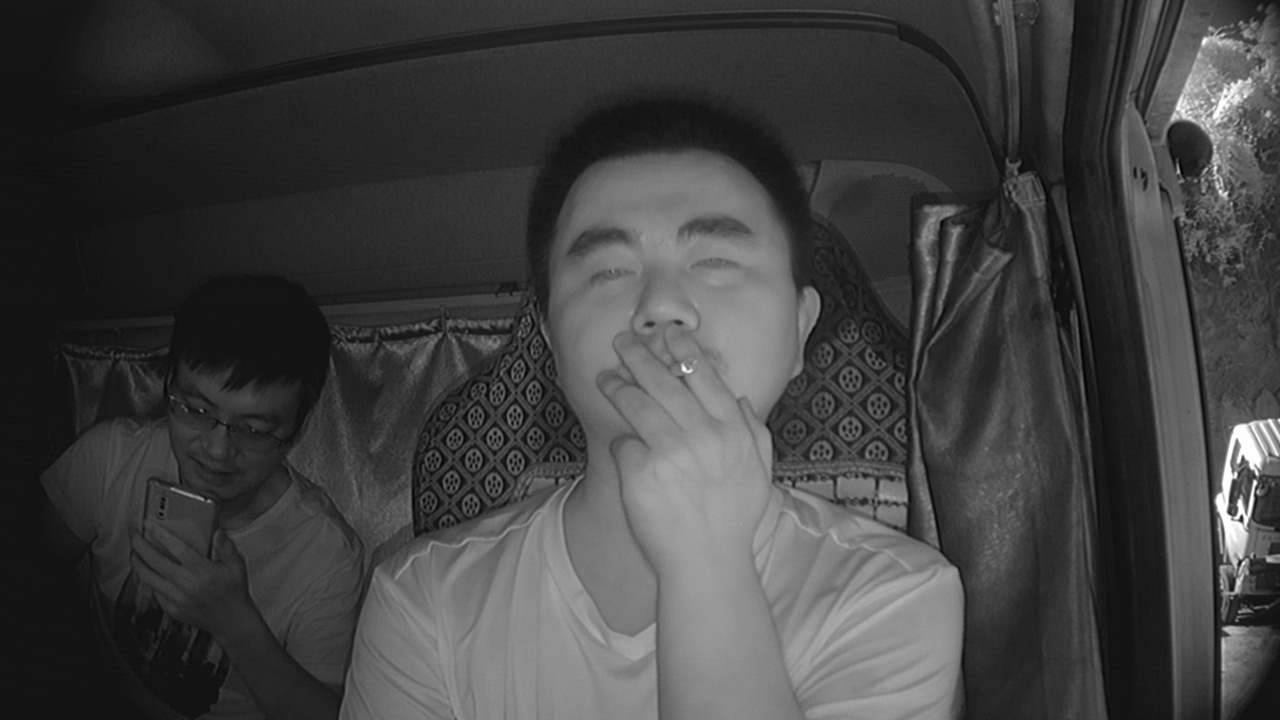hand: (590, 336, 763, 555)
